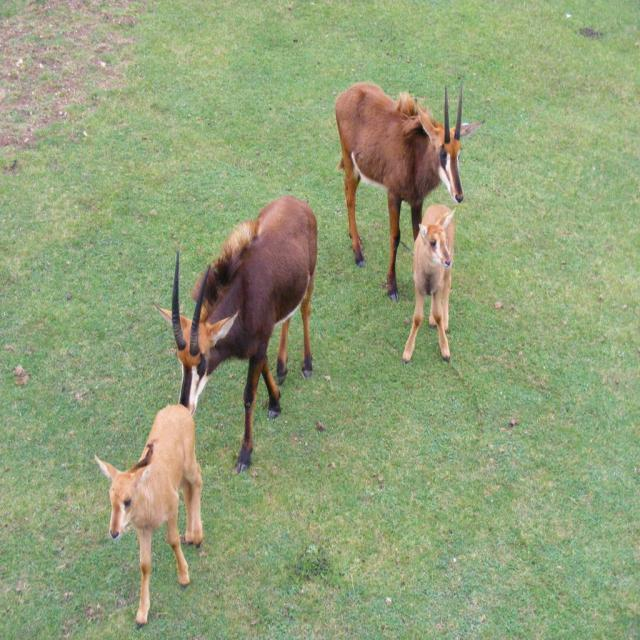Goat: (151, 194, 318, 474), (93, 250, 213, 628), (334, 79, 484, 303), (402, 203, 457, 364)
